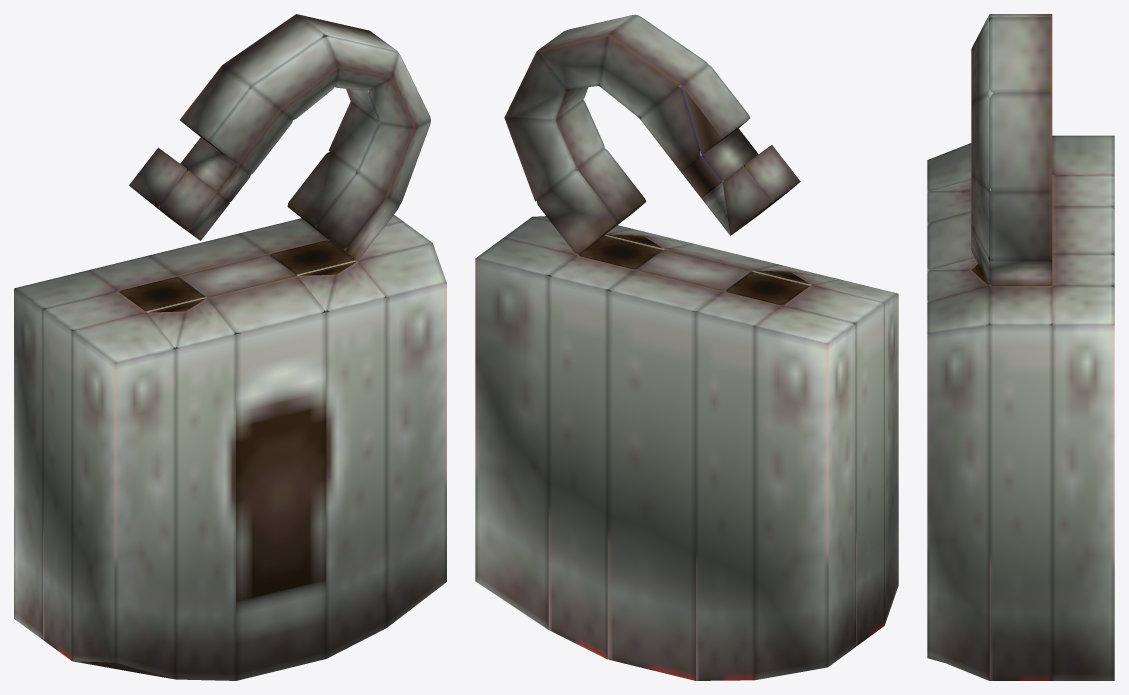
3 renders of one model, left to right at view 1: azimuth 30°, elevation 25°; view 2: azimuth 150°, elevation 25°; view 3: azimuth 270°, elevation 25°, orthographic. The views are drawn at different scales.
Visible parts, largest first — view 1: T1L5M002_18; view 2: T1L5M002_18; view 3: T1L5M002_18.
Part boxes in pixels (x1,y1,x2,y2): T1L5M002_18: [14, 14, 446, 680]; T1L5M002_18: [475, 14, 898, 680]; T1L5M002_18: [927, 14, 1114, 680].
Bounding box in the file's own units: 0.4795 × 0.7764 × 0.2002.
